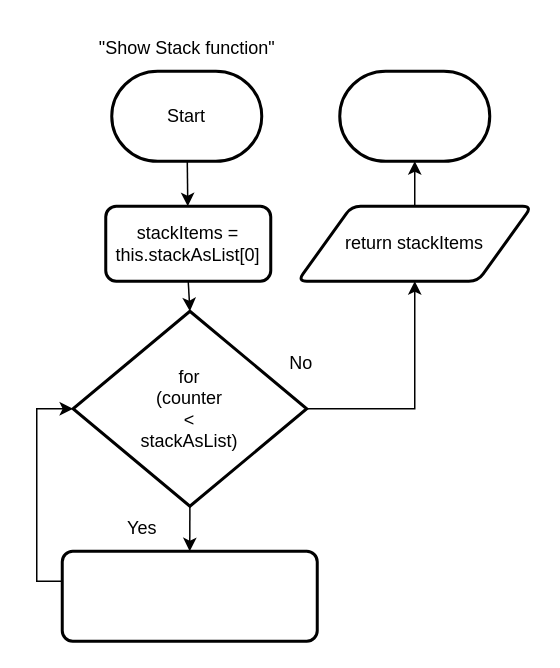
This 560x668 diagram has some shape labels left out. The box of each missing label's shape, as (x1, y1, x2, y2) in pixels:
stackItems = stackItems + ", " + this.stackAsList[counter]: (60, 549, 318, 642)
Stop: (338, 69, 490, 162)
